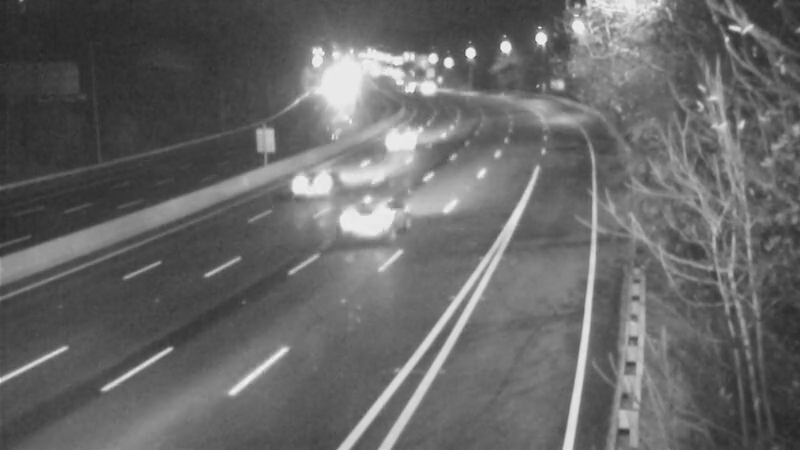vehicle: (276, 139, 356, 219), (331, 182, 411, 262), (402, 67, 452, 117), (380, 63, 430, 113), (377, 112, 427, 162)
